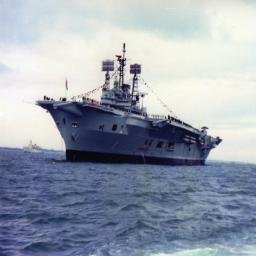Portanaves: (37, 41, 225, 165)
